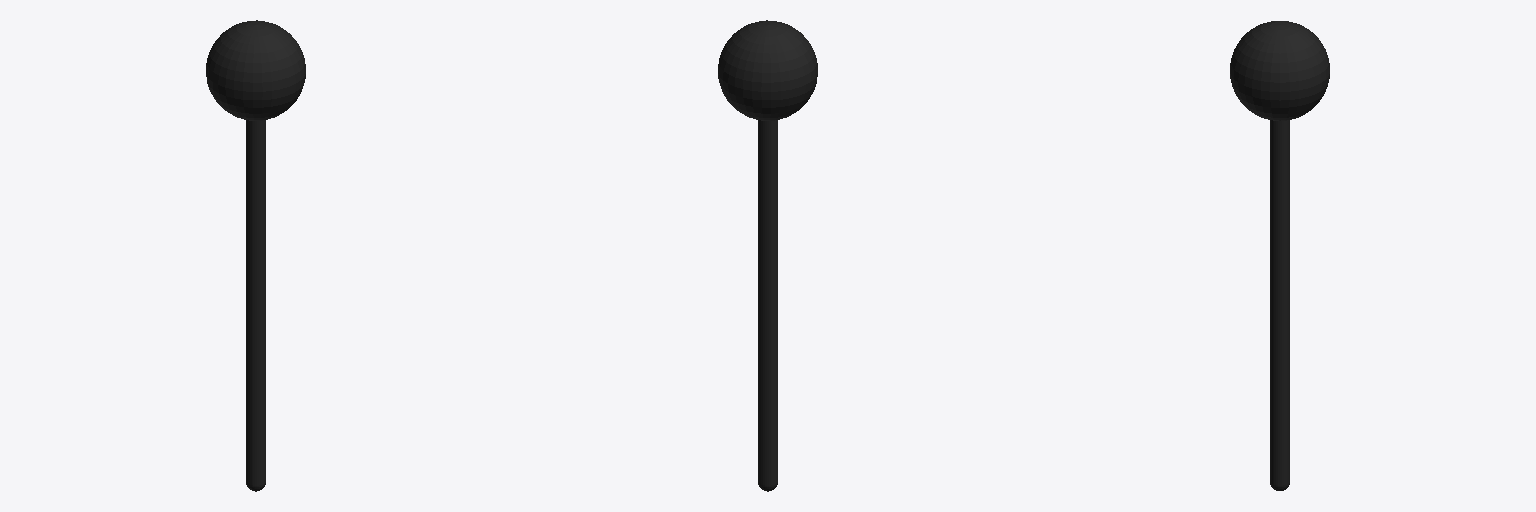
The robot description file, URDF, robot "footedhopper":
<?xml version="1.0"?>
<robot name = "footedhopper">
    <material name="grey">
        <color rgba="0.2 0.2 0.2 1.0"/>
    </material>
    <material name="silver">
        <color rgba="0.913725490196 0.913725490196 0.847058823529 1.0"/>
    </material>
    <!-- links section -->>
  	<link name="xtrans"/>
  	<link name="ztrans"/>
	<link name="base">
		<inertial>
			<origin xyz = "0 0 0" />
			<mass value = "1" />
			<inertia ixx = "0.0241" iyy = "0.0241" izz = "0.0417" ixy = "0" ixz = "0" iyz = "0" />
		</inertial>
		<visual>
			<origin xyz = "0 0 0" />
			<geometry>
				<sphere radius="0.25"/>
			</geometry>
			<material name = "grey"/>
		</visual>
	</link>
	<link name="thigh">
		<inertial>
			<origin xyz = "0 0 -0.5" />
			<mass value = "1" />
			<inertia ixx = "0.083" iyy = "0.083" izz = "0.125" ixy = "0" ixz = "0" iyz = "0" />
		</inertial>
		<visual>
			<origin xyz = "0 0 -0.5" />
			<geometry>
				<cylinder radius = "0.05" length = "1"  />
			</geometry>
            <material name = "grey"/>
		</visual>
	</link>
	<link name="calf">
		<inertial>
			<origin xyz = "0 0 -0.5" />
			<mass value = "1" />
			<inertia ixx = "0.083" iyy = "0.083" izz = "0.125" ixy = "0" ixz = "0" iyz = "0" />
		</inertial>
		<visual>
			<origin xyz = "0 0 -0.5" />
			<geometry>
				<cylinder radius = "0.05" length = "1"  />
			</geometry>
            <material name = "grey"/>
		</visual>
	</link>
	<link name="foot">
		<visual>
          	<origin xyz = "0 0 0" rpy="0 0 0" />
			<geometry>
				<cylinder radius = "0.05" length = "0.5"  />
			</geometry>
            <material name = "grey"/>
		</visual>
	</link>
    <!--These links are for visualization-->
	<link name="knee_sphere">
		<visual>
        	<origin xyz="0 0 0" rpy="0 0 0"/>
          	<geometry>
              <sphere radius="0.05"/>
          	</geometry>
            <material name = "grey"/>
        </visual>
        <inertial>
            <origin xyz="0 0 0"/>
            <mass value = "0.001"/>
            <inertia ixx = "0.0001" iyy = "0.0001" izz = "0.0001" ixy = "0" ixz = "0" iyz = "0" />
        </inertial>
	</link>
	<link name="foot_sphere">
	    <visual>
        	<origin xyz="0 0 0"/>
          	<geometry>
              <sphere radius="0.05"/>
          	</geometry>
            <material name = "grey"/>
        </visual>
        <inertial>
            <origin xyz="0 0 0"/>
            <mass value = "0.001"/>
            <inertia ixx = "0.0001" iyy = "0.0001" izz = "0.0001" ixy = "0" ixz = "0" iyz = "0" />
        </inertial>
	</link>
	<link name="toe_sphere">
	    <visual>
        	<origin xyz="0 0 0"/>
          	<geometry>
              <sphere radius="0.05"/>
          	</geometry>
            <material name = "grey"/>
        </visual>
        <inertial>
            <origin xyz="0 0 0"/>
            <mass value = "0.001"/>
            <inertia ixx = "0.0001" iyy = "0.0001" izz = "0.0001" ixy = "0" ixz = "0" iyz = "0" />
        </inertial>
	</link>
	<link name="ankle_sphere">
	    <visual>
        	<origin xyz="0 0 0"/>
          	<geometry>
              <sphere radius="0.05"/>
          	</geometry>
            <material name = "grey"/>
        </visual>
        <inertial>
            <origin xyz="0 0 0"/>
            <mass value = "0.001"/>
            <inertia ixx = "0.0001" iyy = "0.0001" izz = "0.0001" ixy = "0" ixz = "0" iyz = "0" />
        </inertial>
	</link>
	<!-- joints section -->>
	<joint name="xslide" type="prismatic">
      	<parent link="xtrans"/>
      	<child link="ztrans"/>
      	<origin xyz="0 0 0"/>
      	<axis xyz="1 0 0"/>
	</joint>
	<joint name="zslide" type="prismatic">
      	<parent link="ztrans"/>
      	<child link="base"/>
      	<origin xyz="0 0 0"/>
      	<axis xyz="0 0 1"/>
	</joint>
	<joint name="hip" type="revolute">
		<parent link="base" />
		<child link="thigh" />
		<origin xyz="0 0 0" />
		<axis xyz="0 -1 0" />
	</joint>
	<joint name="knee" type="revolute">
		<parent link="thigh" />
		<child link="calf" />
		<origin xyz="0 0 -1" />
		<axis xyz = "0 -1 0" />
	</joint>
	<joint name="ankle" type="revolute">
      	<parent link="calf"/>
      	<child link="foot"/>
      	<origin xyz="0 0 -1"/>
      	<axis xyz="0 -1 0"/>
	</joint>
      
    <!--These joint are for visualization-->
	<joint name="kneecap" type="fixed">
      <parent link="thigh"/>
      <child link="knee_sphere"/>
      <origin xyz="0 0 -1"/>
      <axis xyz="1 0 0"/>
	</joint>
	<joint name="footcap" type="fixed">
      <parent link="calf"/>
      <child link="foot_sphere"/>
      <origin xyz="0 0 -1"/>
      <axis xyz="1 0 0"/>
	</joint>
	<joint name="toecap" type="fixed">
      	<parent link="foot"/>
      	<child link="toe_sphere"/>
      	<origin xyz="0 0 0.25"/>
      	<axis xyz="1 0 0"/>
</joint>
	<joint name="anklecap" type="fixed">
      	<parent link="foot"/>
      	<child link="ankle_sphere"/>
      	<origin xyz="0 0 -0.25"/>
      	<axis xyz="1 0 0"/>
</joint>
    <!-- actuator section -->
    <transmission name = "hip_transmission">
        <type>transmission_interface/SimpleTransmission</type>
        <joint name="hip"/>
        <actuator name="hip_actuator">
            <mechanicalReduction>1</mechanicalReduction>
        </actuator>
    </transmission>
    <transmission name="knee_actuation">
        <type>transmission_interface/SimpleTransmission</type>
        <joint name="knee"/>
        <actuator name="knee_actuator">
            <mechanicalReduction>1</mechanicalReduction>
        </actuator>
    </transmission>
    <transmission name="ankle_actuation">
        <type>transmission_interface/SimpleTransmission</type>
        <joint name="ankle"/>
        <actuator name="ankle_actuator">
            <mechanicalReduction>1</mechanicalReduction>
        </actuator>
    </transmission>
</robot>

--- Render facts (derived) ---
Views: 3 orthographic renders of the robot side by side, from view 1: azimuth 30°, elevation 25°; view 2: azimuth 150°, elevation 25°; view 3: azimuth 270°, elevation 25°.
Model footedhopper with 10 links and 9 joints (3 revolute, 2 prismatic, 4 fixed), rooted at xtrans, posed all joints at 0.
Links seen in each view (by area): view 1: base, calf, thigh, foot; view 2: base, calf, thigh, foot; view 3: base, calf, thigh, foot.
Boxes of the visible links, bbox=[...] form: base: bbox=[206, 20, 305, 120]; calf: bbox=[246, 255, 265, 439]; thigh: bbox=[246, 120, 265, 257]; foot: bbox=[246, 392, 265, 485]; base: bbox=[718, 20, 817, 120]; calf: bbox=[758, 255, 777, 439]; thigh: bbox=[758, 120, 777, 257]; foot: bbox=[758, 392, 777, 485]; base: bbox=[1230, 21, 1329, 120]; calf: bbox=[1270, 255, 1289, 439]; thigh: bbox=[1270, 120, 1289, 257]; foot: bbox=[1270, 392, 1289, 485].
Size in the robot's own frame: 0.5 by 0.5 by 2.55 metres.
Geometry: primitives only (box / cylinder / sphere), no mesh files.